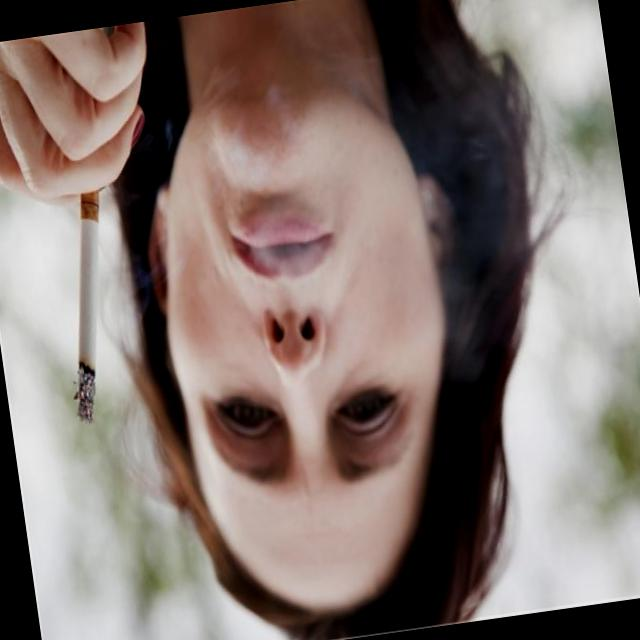smoke: (37, 179, 152, 433)
